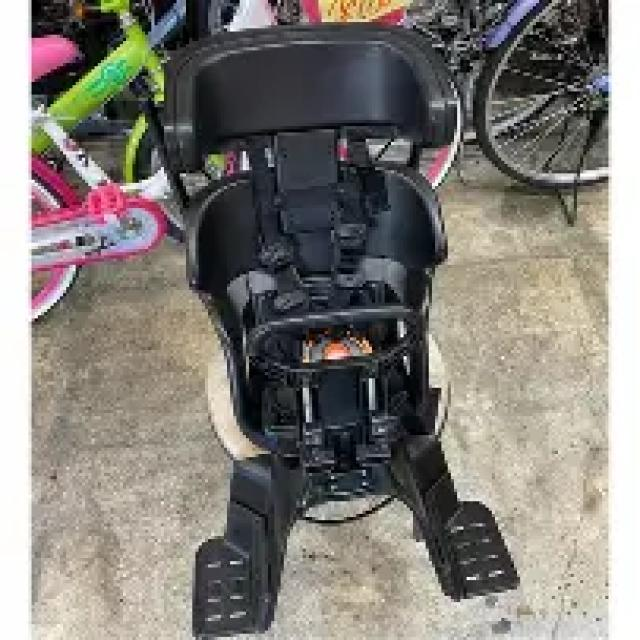childseat: (175, 26, 515, 638)
